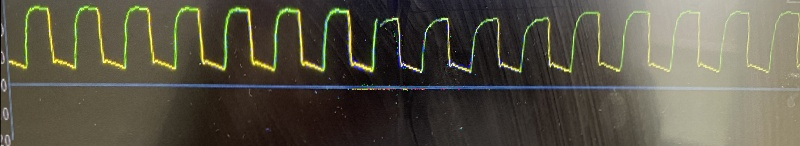normal_pressure: (0, 0, 792, 82)
